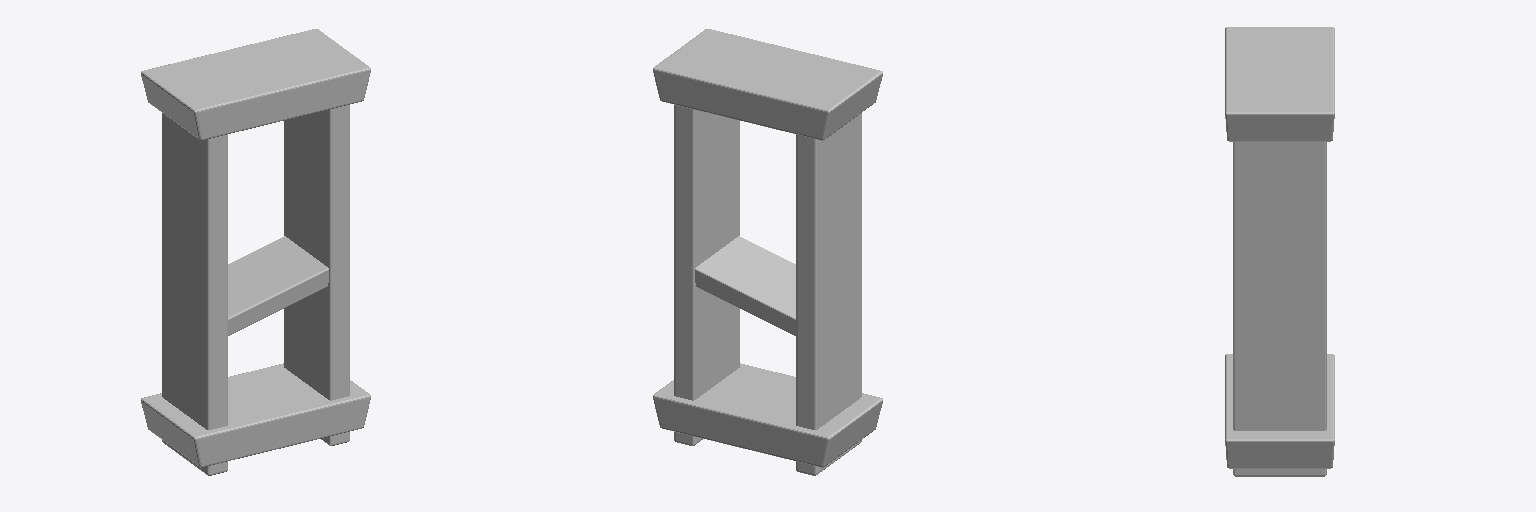
The model's file is bookcase_broken.obj.
3 renders of one model, left to right at view 1: azimuth 30°, elevation 25°; view 2: azimuth 150°, elevation 25°; view 3: azimuth 270°, elevation 25°, orthographic.
Visible parts, largest first — view 1: bookcase_broken_Cube.4088; view 2: bookcase_broken_Cube.4088; view 3: bookcase_broken_Cube.4088.
Part boxes in pixels (left/top/right/bottom): bookcase_broken_Cube.4088: left=141, top=29, right=370, bottom=475; bookcase_broken_Cube.4088: left=653, top=29, right=882, bottom=475; bookcase_broken_Cube.4088: left=1225, top=27, right=1334, bottom=476.
Bounding box in the file's own units: 0.9949 × 2 × 0.5333.